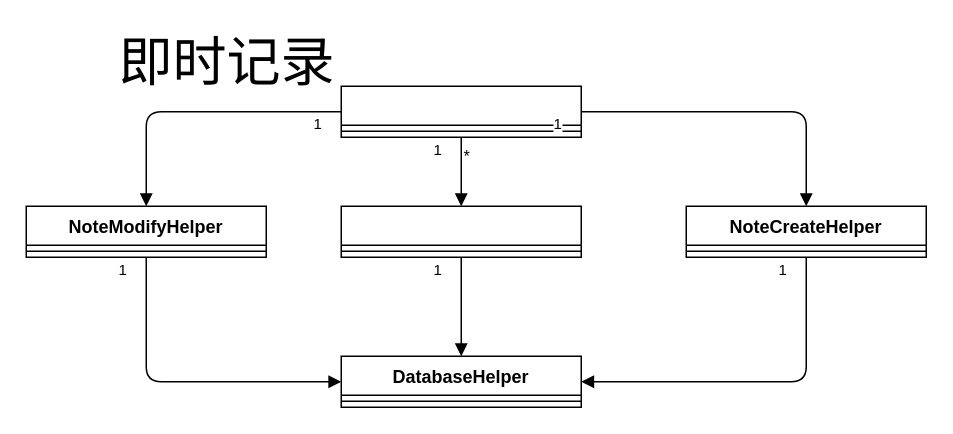
Some shapes in this 953 by 434 pixel diagram are drawn without their labels. Here are the shapes that lost their labels. From the top down, the centre of each, then its label:
the point at 460,111: Note
the point at 460,231: NoteDeleteHelper
